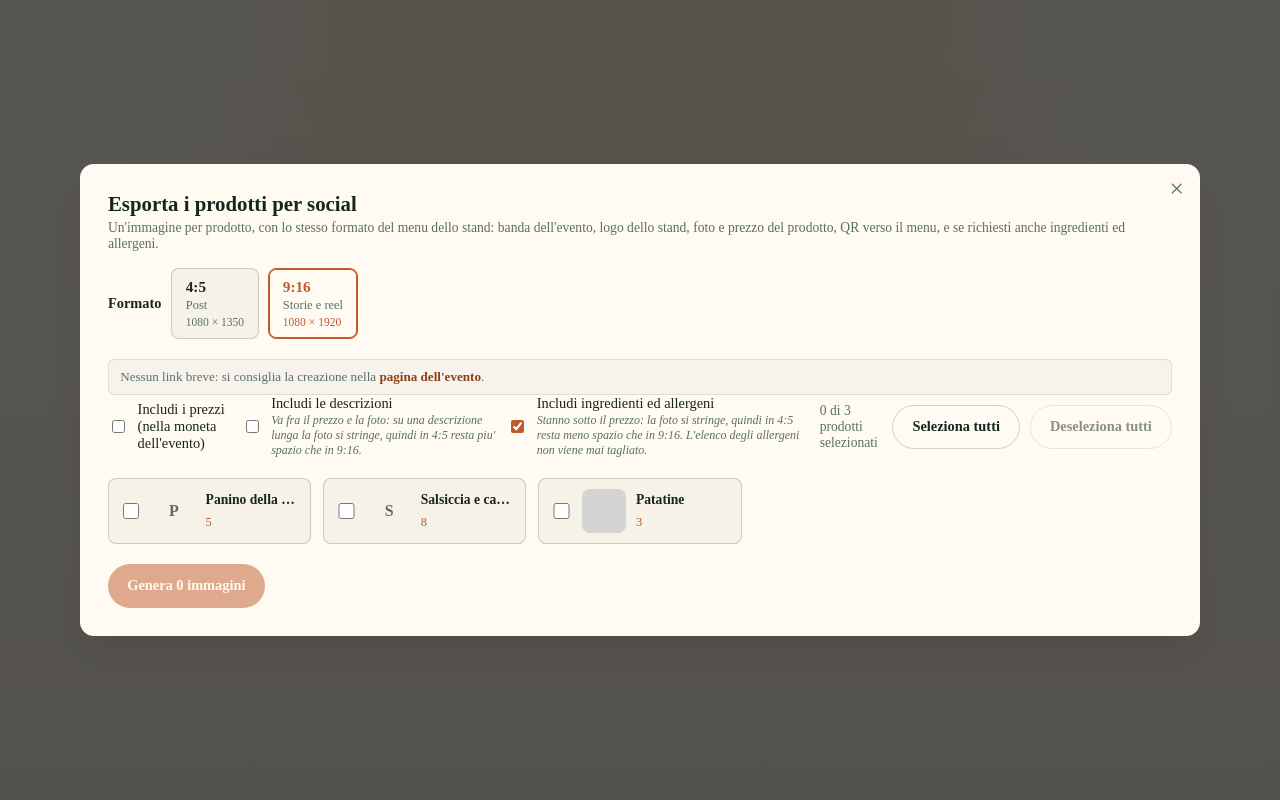
export prodotti per social › sceglie i prodotti uno a uno e conta
The width and height of the screenshot is (1280, 800).
Expected: the text "0 di 3 prodotti selezionati" is shown, [820,403,883,451]
What coordinates should you click on to do the following:
click the checkbox labelled "S Salsiccia e caciocavallo 8"
I would click on:
 (346, 511)
Its box is [338,503,355,520].
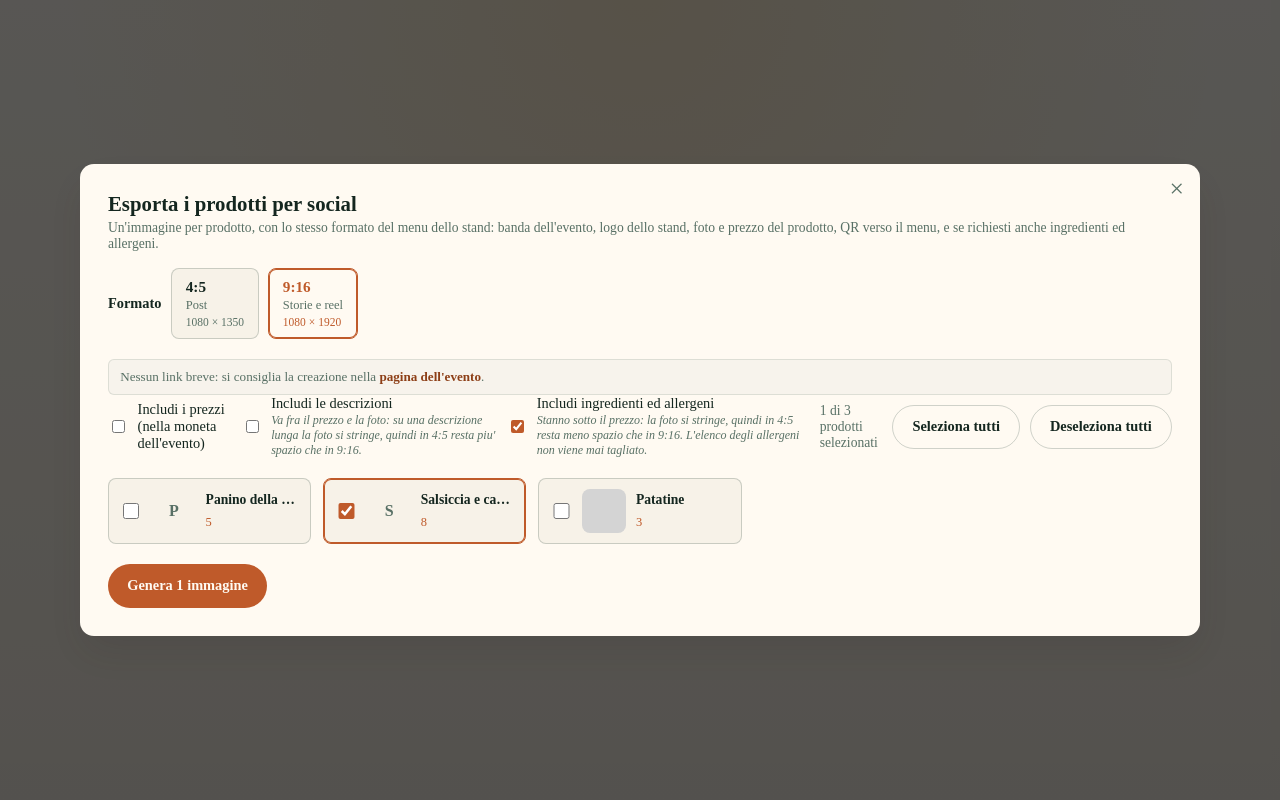
Now the text "1 di 3 prodotti selezionati" is shown, box [820,403,883,451]
What coordinates should you click on to do the following:
click the button "Seleziona tutti"
I would click on:
 (956, 427)
Its box is [892,405,1020,449].
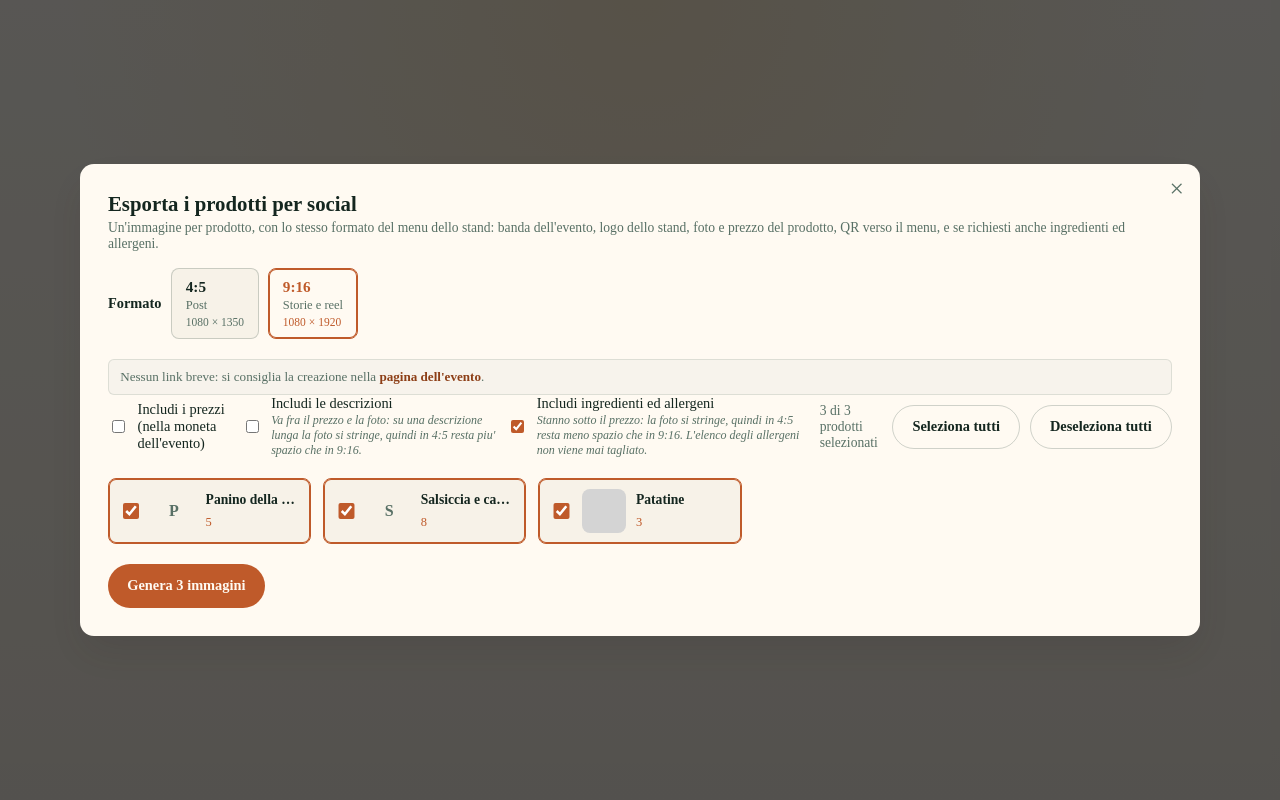
Now the text "3 di 3 prodotti selezionati" is shown, box [820,403,883,451]
What coordinates should you click on to do the following:
click the button "Deseleziona tutti"
I would click on:
 (1101, 427)
Its box is [1030,405,1172,449].
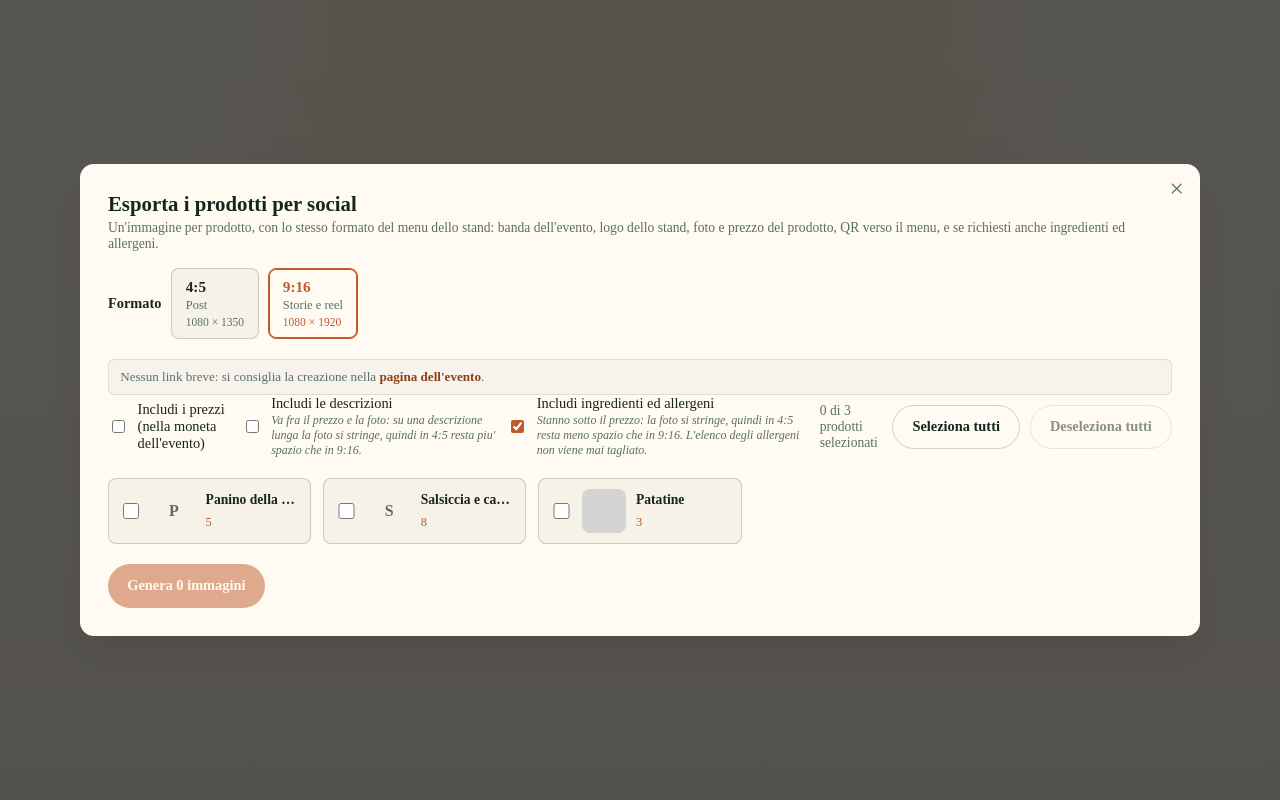
Now the text "0 di 3 prodotti selezionati" is shown, box [820,403,883,451]
